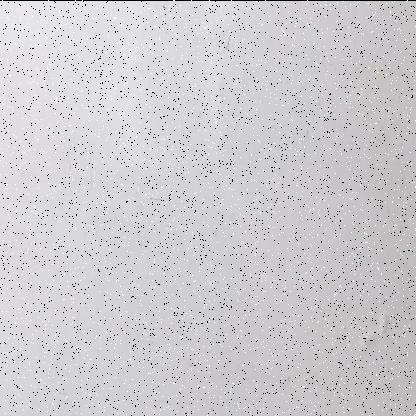Nocrack: (21, 8, 416, 416)
